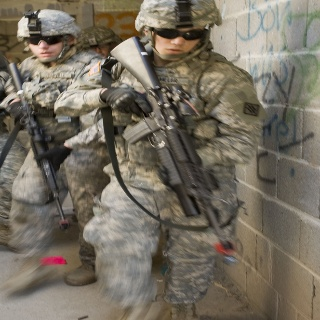rifle: (108, 36, 247, 260), (6, 60, 69, 230)
